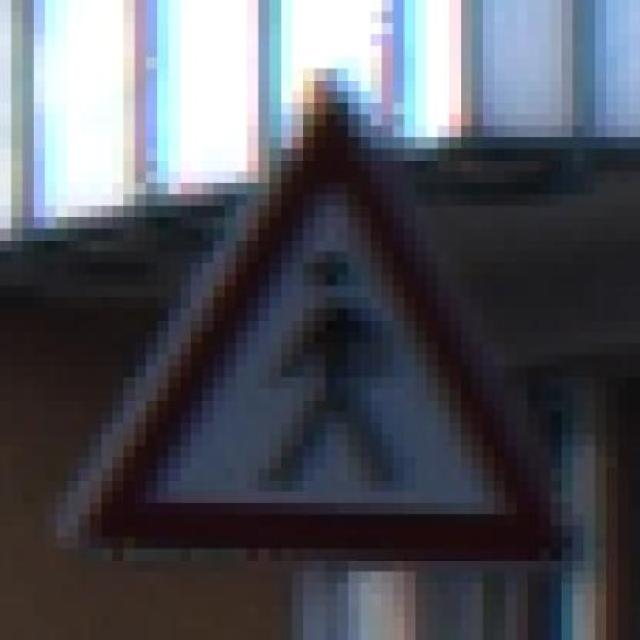Pedestrian Crossing: (67, 57, 573, 583)
